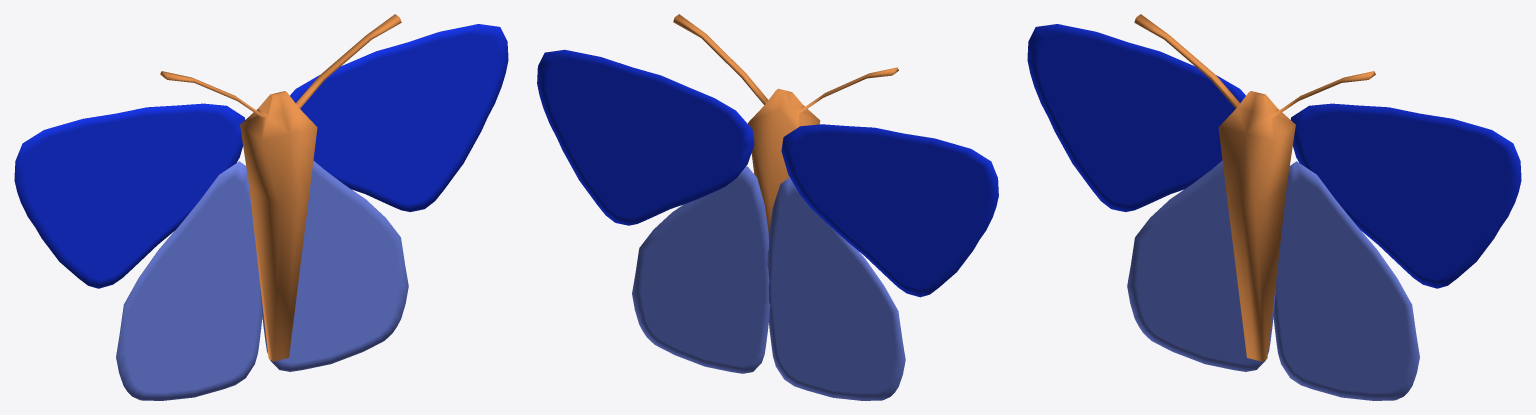
File: commonBlue.fbx
The picture shows the model from 3 angles, left to right: view 1: azimuth 30°, elevation 25°; view 2: azimuth 150°, elevation 25°; view 3: azimuth 330°, elevation 25°; orthographic projection. The views are drawn at different scales.
Visible parts, largest first — view 1: Cube; view 2: Cube; view 3: Cube.
Boxes of the visible parts, x1,y1,x2,y2 form: Cube: (14, 14, 508, 400); Cube: (537, 14, 998, 400); Cube: (1027, 14, 1521, 400).
Bounding box in the file's own units: 303 × 205 × 35.09.
